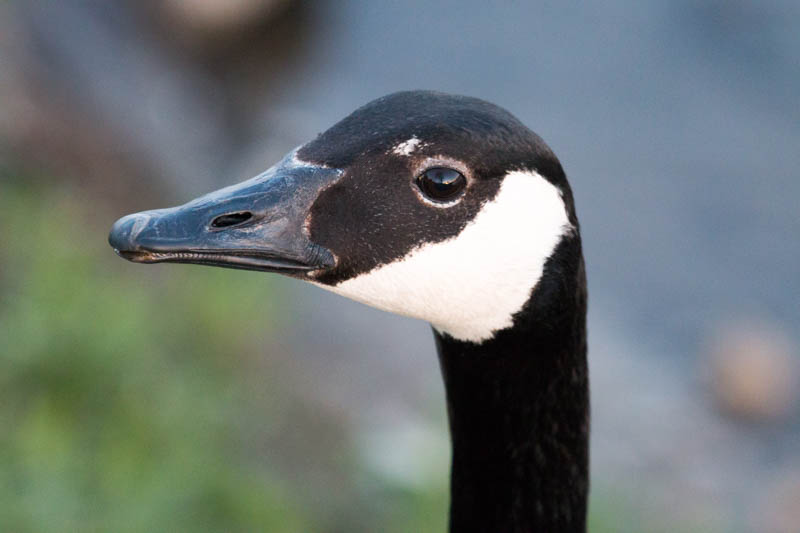goose-head: (105, 88, 588, 350)
